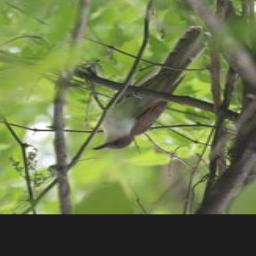Cuckoo: (90, 26, 210, 154)
